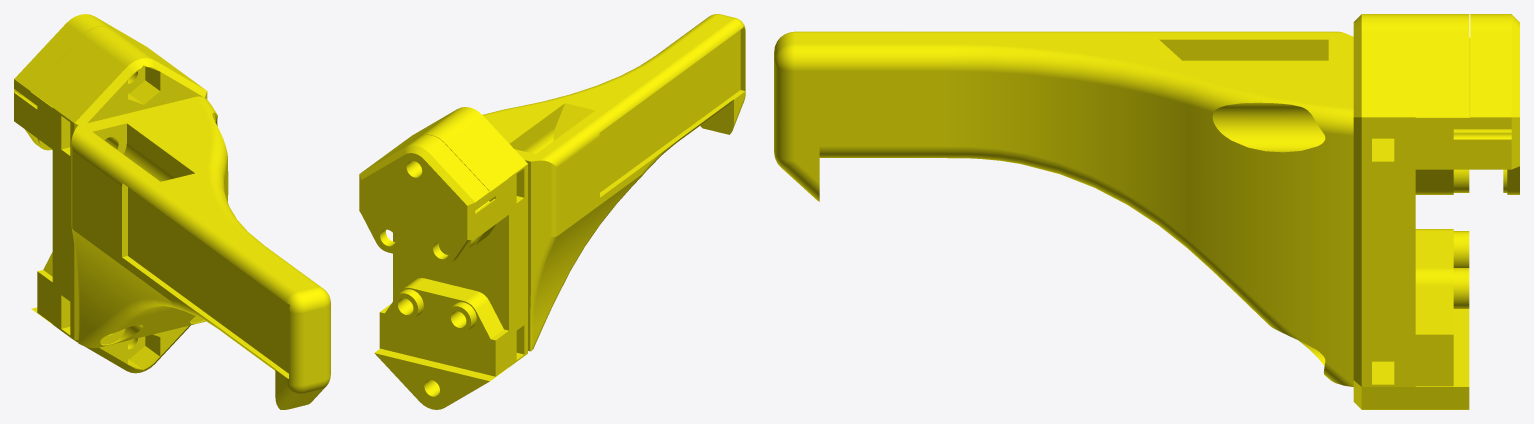
The model's file is gripperRight.obj.
3 renders of one model, left to right at view 1: azimuth 30°, elevation 25°; view 2: azimuth 150°, elevation 25°; view 3: azimuth 270°, elevation 25°, orthographic. The views are drawn at different scales.
Visible parts, largest first — view 1: gripper.001; view 2: gripper.001; view 3: gripper.001.
Part boxes in pixels (x1=…): gripper.001: x1=14, y1=14, x2=330, y2=409; gripper.001: x1=359, y1=14, x2=745, y2=409; gripper.001: x1=774, y1=14, x2=1519, y2=409.
Size of the model in its own units: 2.6 by 5.2 by 9.01.
